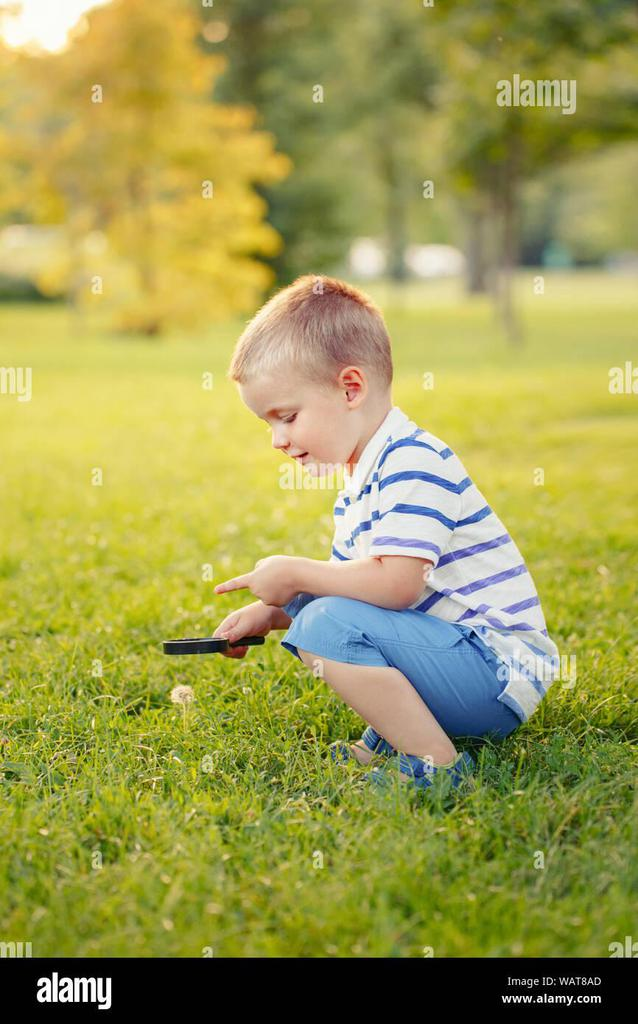child: (154, 253, 583, 814)
